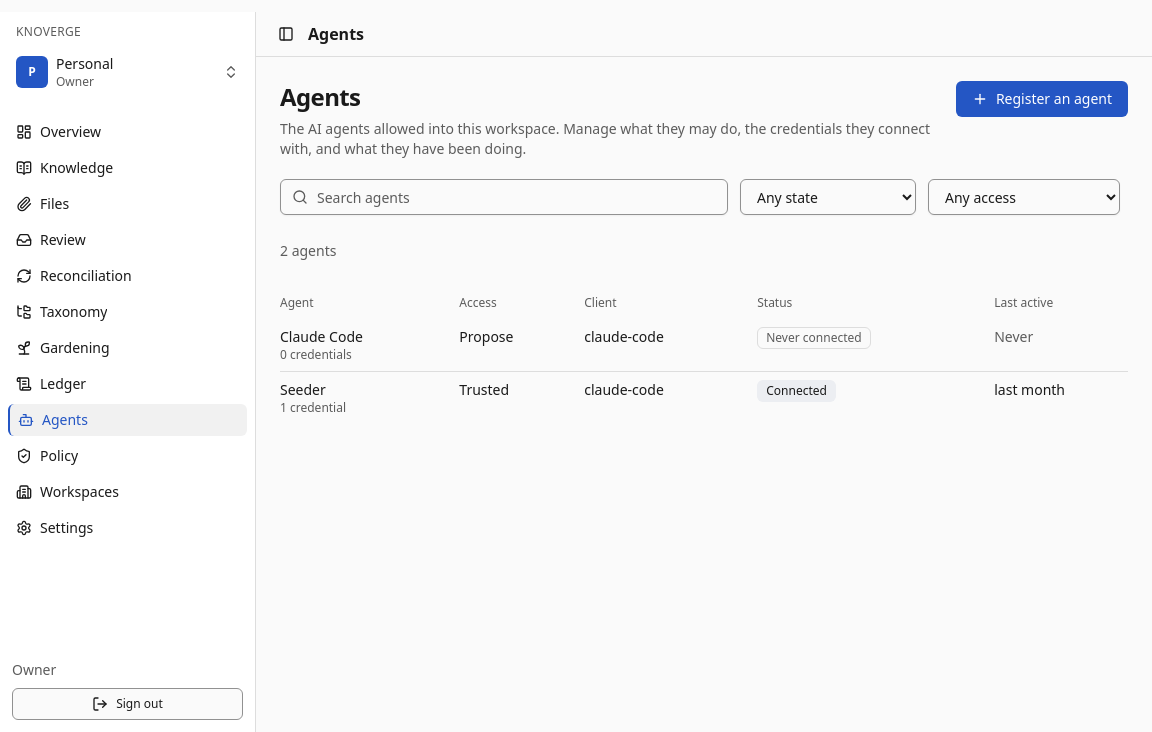
Scenario: agents page › tells a registered agent apart from a working one
The image size is (1152, 732).
Expected: the text "Never connected" is shown, top-left (757, 327), bottom-right (871, 349)
Expected: the text "Connected" is shown, top-left (757, 380), bottom-right (836, 402)
Select "Never connected" in the dropdown named "Filter by state" at (828, 197), box top-left (740, 179), bottom-right (916, 215)
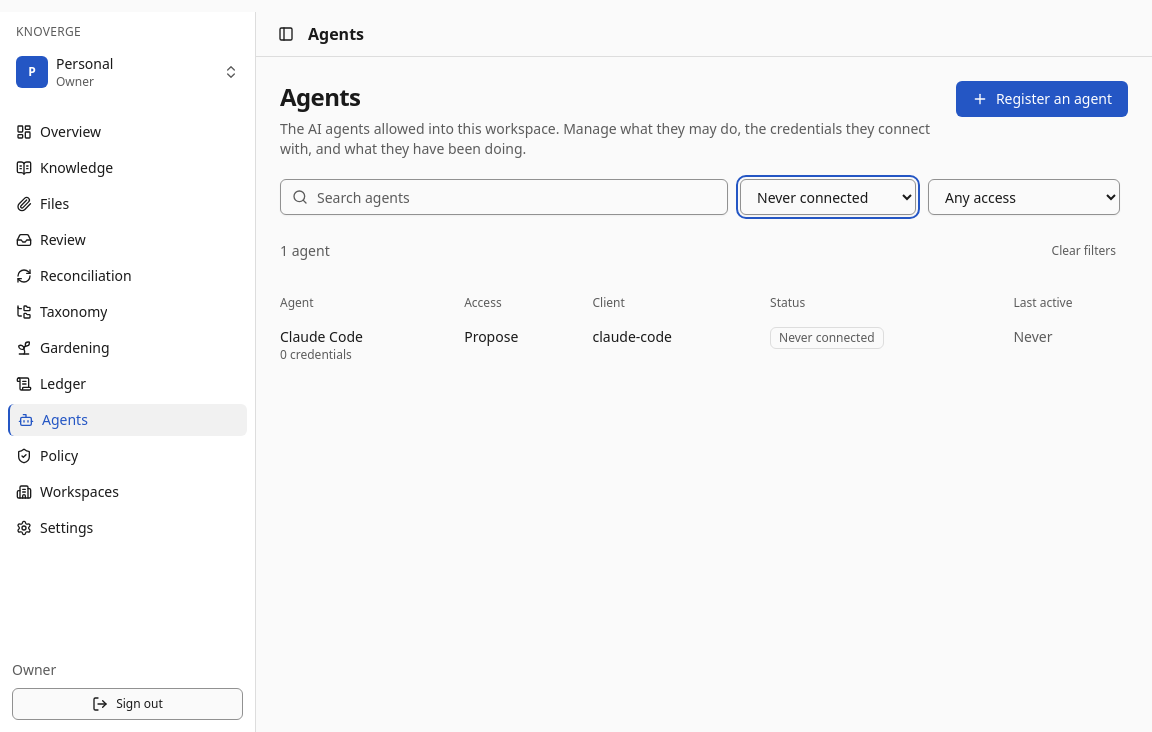
Expected: the button "Claude Code" is shown, top-left (280, 327), bottom-right (363, 347)
Expected: the button "Seeder" is gone
